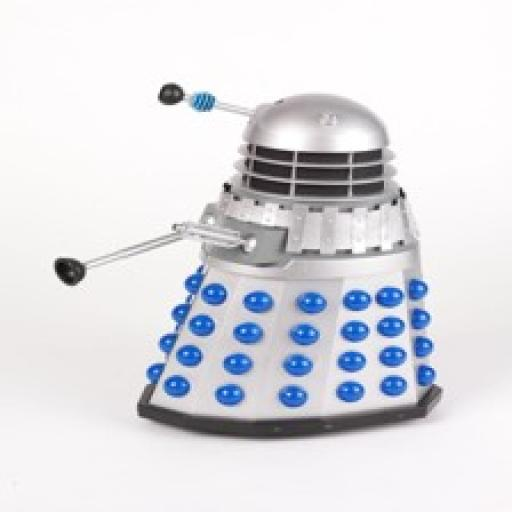dalek: (50, 67, 460, 438)
